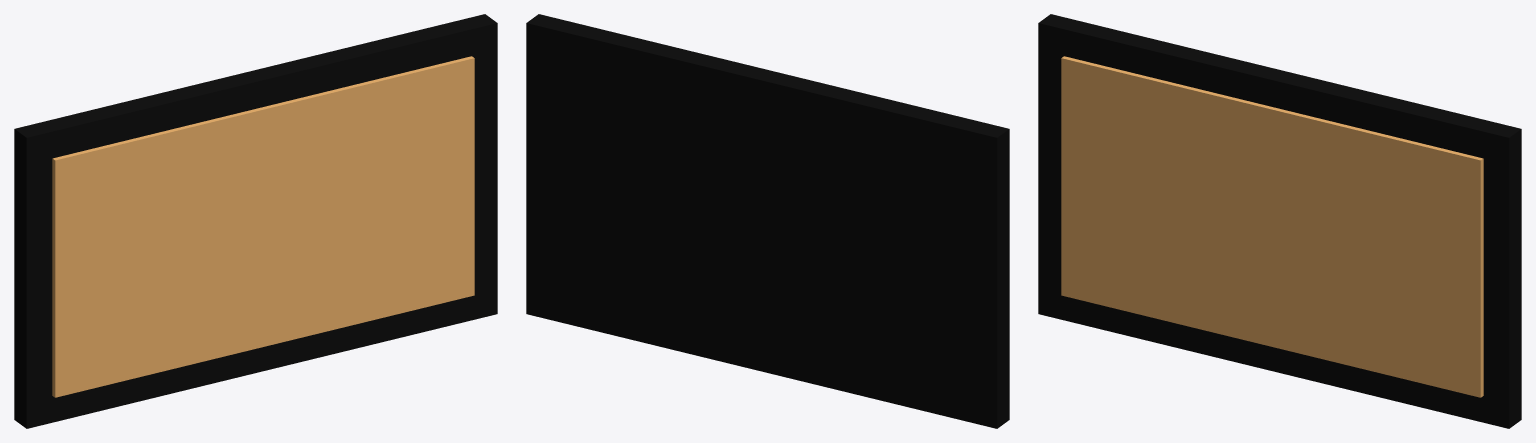
The model's file is PatioTV.obj.
3 renders of one model, left to right at view 1: azimuth 30°, elevation 25°; view 2: azimuth 150°, elevation 25°; view 3: azimuth 330°, elevation 25°, orthographic.
Parts seen in each view (by area): view 1: PatioTV; view 2: PatioTV; view 3: PatioTV.
Boxes of the visible parts, box(x1,y1,x2,y2) form: PatioTV: box(14, 14, 497, 428); PatioTV: box(526, 14, 1009, 428); PatioTV: box(1038, 14, 1521, 428).
Bounding box in the file's own units: 1.1 × 0.65 × 0.061.
Materials: 1 (1 with a texture image).
